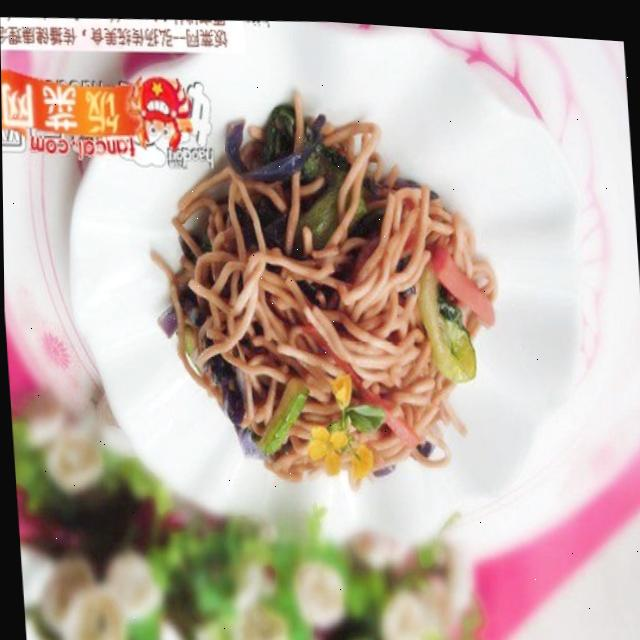面条主食: (49, 3, 597, 570)
